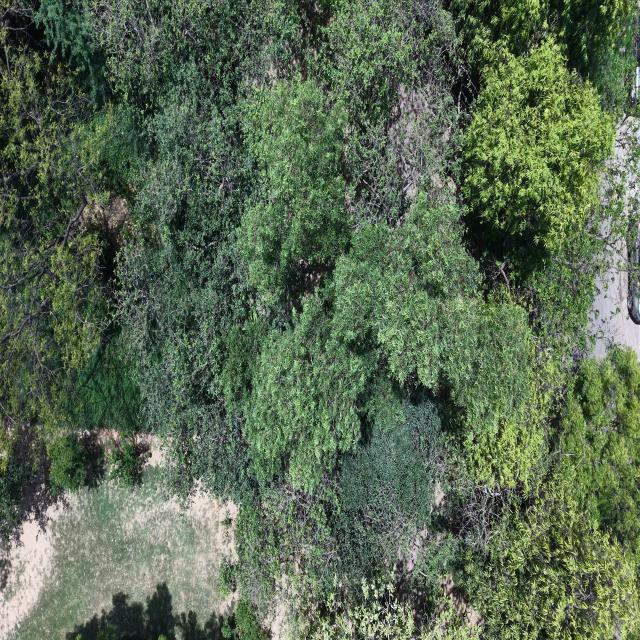DRY_AREA: (0, 466, 235, 639), (590, 240, 639, 358), (592, 265, 639, 358)
VEGETATION_TREE: (0, 0, 639, 639), (463, 41, 613, 252), (461, 472, 638, 638), (447, 0, 636, 100), (556, 348, 639, 555), (66, 583, 268, 639), (48, 433, 87, 491), (108, 437, 142, 486)
